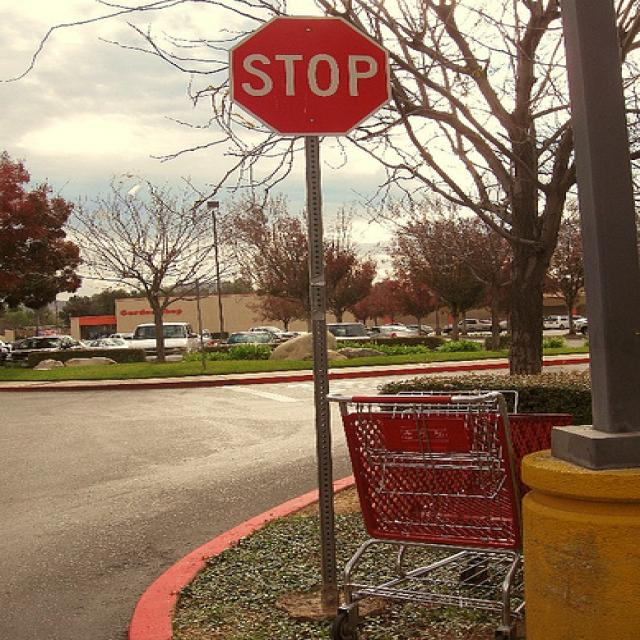Vehicle: (130, 322, 199, 363), (441, 318, 507, 335), (226, 330, 281, 345), (82, 336, 128, 351), (367, 326, 418, 337), (326, 323, 368, 335), (249, 326, 290, 338), (543, 315, 569, 330), (481, 318, 508, 331), (0, 340, 14, 365), (572, 318, 588, 336), (406, 325, 433, 335)
